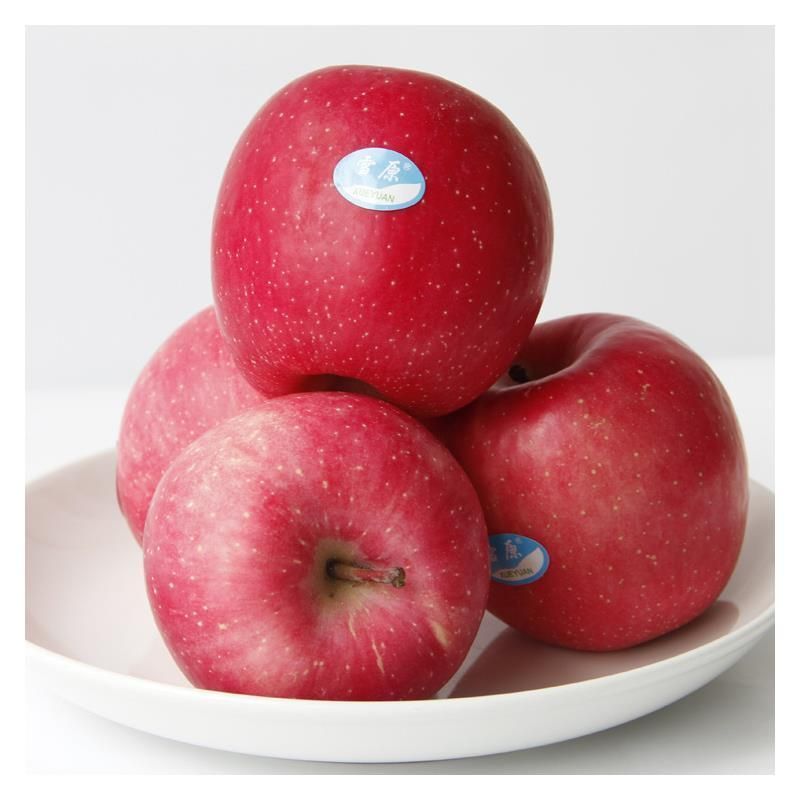apple: (208, 62, 556, 414), (426, 320, 756, 657), (136, 397, 496, 703)
